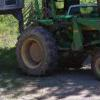Tractor: (15, 5, 100, 69)
